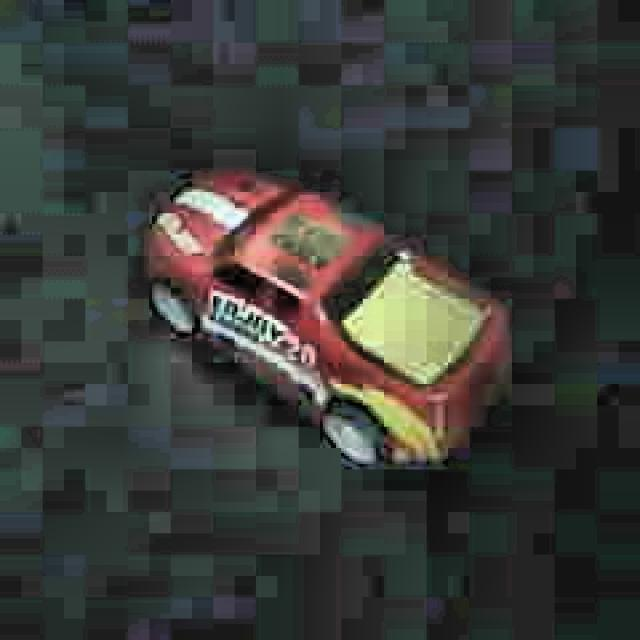car: (136, 156, 522, 486)
